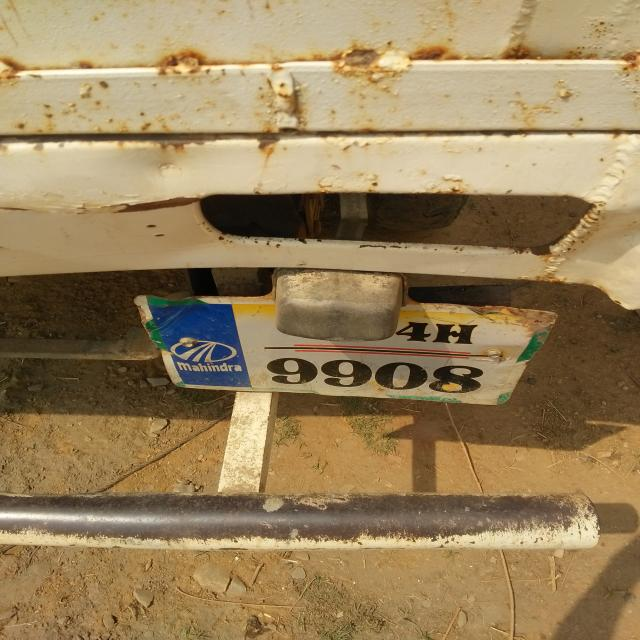Number_Plate_Detected: (134, 294, 564, 406)
